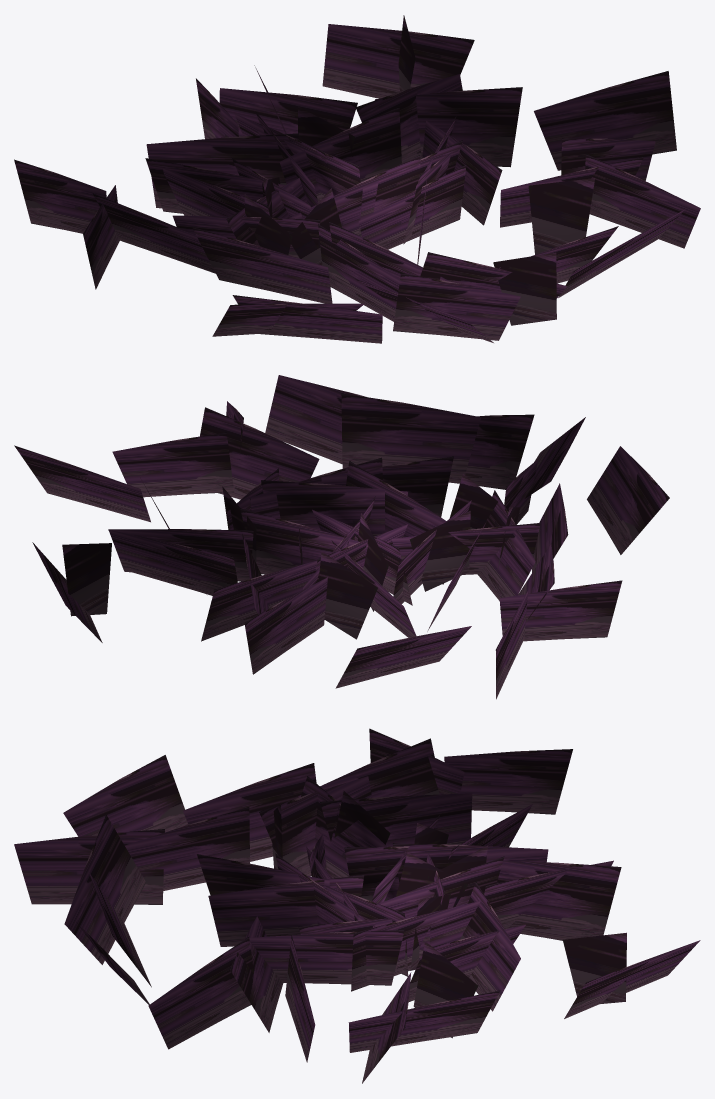
3 views of the same model, one above another, from view 1: azimuth 30°, elevation 25°; view 2: azimuth 150°, elevation 25°; view 3: azimuth 270°, elevation 25° (orthographic). The views are drawn at different scales.
Parts seen in each view (by area): view 1: SM_WT_Sedge_02_LOD0; view 2: SM_WT_Sedge_02_LOD0; view 3: SM_WT_Sedge_02_LOD0.
Boxes of the visible parts, bbox=[...] form: SM_WT_Sedge_02_LOD0: bbox=[14, 15, 700, 343]; SM_WT_Sedge_02_LOD0: bbox=[14, 375, 669, 699]; SM_WT_Sedge_02_LOD0: bbox=[14, 728, 700, 1083].
Bounding box in the file's own units: 2.01 × 0.3167 × 1.93.
